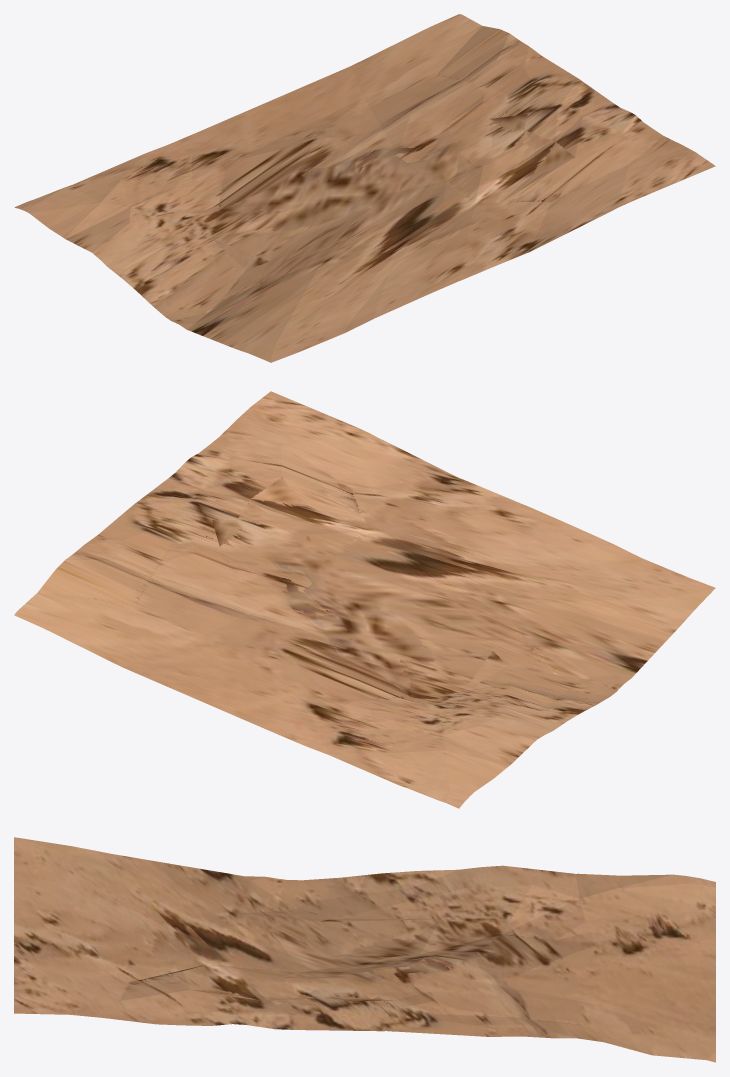
3 renders of one model, top to bottom at view 1: azimuth 30°, elevation 25°; view 2: azimuth 150°, elevation 25°; view 3: azimuth 270°, elevation 25°, orthographic. The views are drawn at different scales.
Bounding box in the file's own units: 1.04 × 0.2711 × 1.04.
3 materials, 3 textured.
